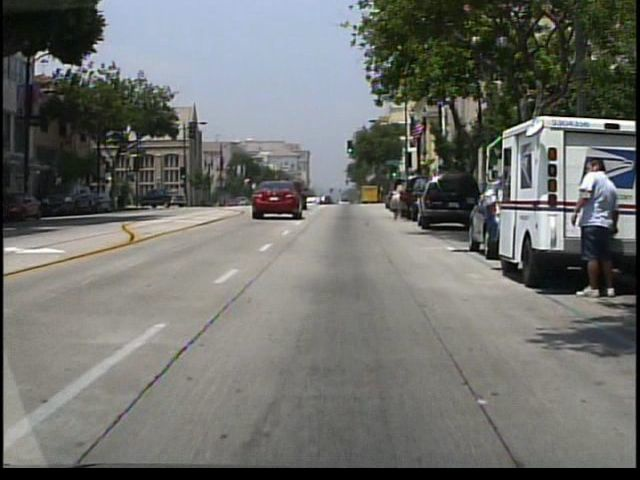person: (568, 160, 615, 298), (387, 177, 409, 223)
